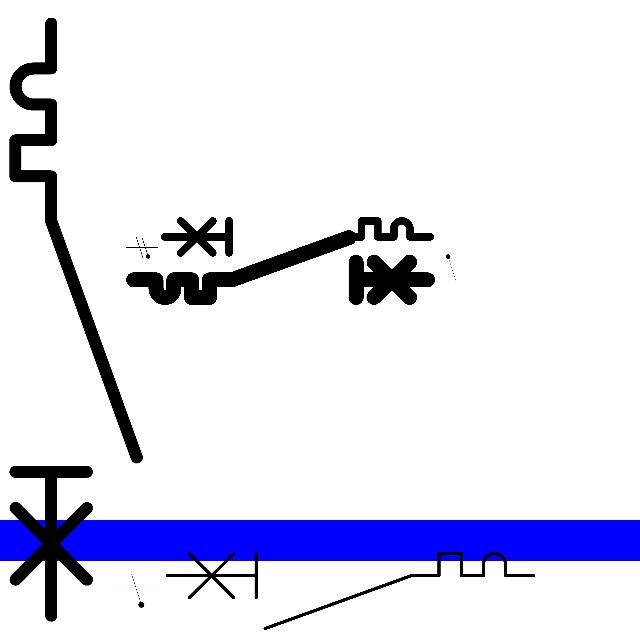interruptor_termomagnetico: (0, 8, 152, 631), (157, 544, 543, 638), (126, 230, 435, 305), (157, 214, 437, 282)
